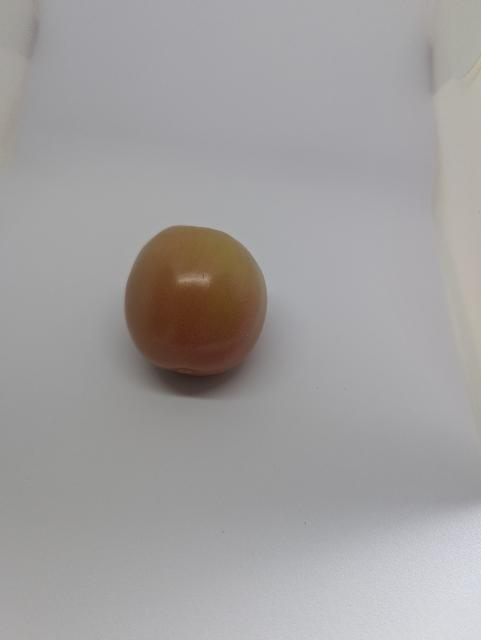turning: (119, 219, 272, 381)
